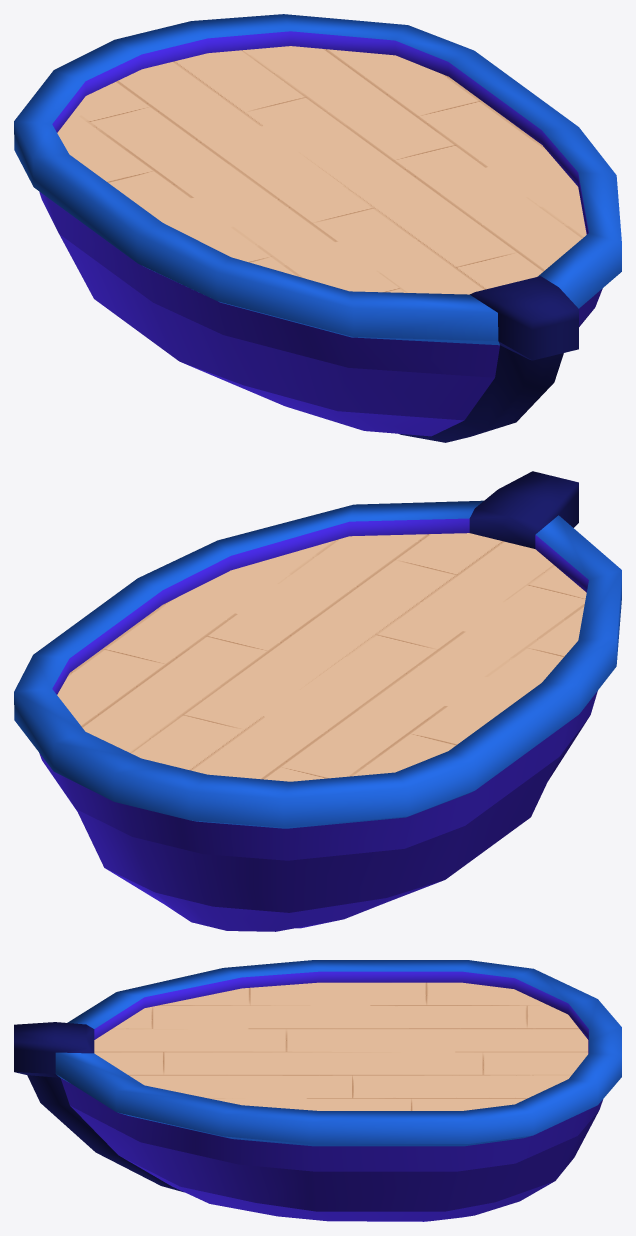
File: mavi.fbx
The picture shows the model from 3 angles, top to bottom: view 1: azimuth 30°, elevation 25°; view 2: azimuth 150°, elevation 25°; view 3: azimuth 270°, elevation 25°; orthographic projection. The views are drawn at different scales.
Visible parts, largest first — view 1: mini_mavi.001; view 2: mini_mavi.001; view 3: mini_mavi.001.
Boxes of the visible parts, <box> form: mini_mavi.001: <box>14,14,621,442</box>; mini_mavi.001: <box>14,471,621,931</box>; mini_mavi.001: <box>14,960,621,1221</box>.
Bounding box in the file's own units: 258 × 131 × 408.
4 materials, 1 textured.
